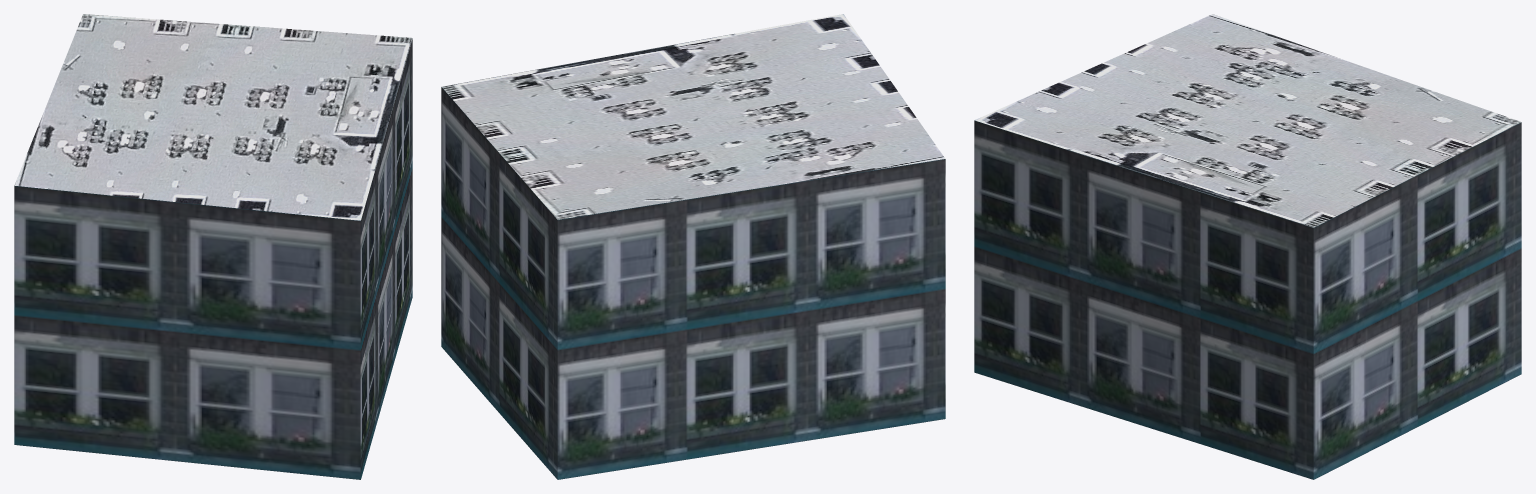
Rendered from ResTex__5233.fbx.
3 renders of one model, left to right at view 1: azimuth 30°, elevation 25°; view 2: azimuth 150°, elevation 25°; view 3: azimuth 270°, elevation 25°, orthographic. The views are drawn at different scales.
Parts seen in each view (by area): view 1: CityEngineMaterial_11_m, CityEngineMaterial_m; view 2: CityEngineMaterial_11_m, CityEngineMaterial_m; view 3: CityEngineMaterial_11_m, CityEngineMaterial_m.
Part boxes in pixels (bbox=[...]): CityEngineMaterial_11_m: bbox=[14, 39, 412, 479]; CityEngineMaterial_m: bbox=[14, 14, 412, 220]; CityEngineMaterial_11_m: bbox=[441, 87, 945, 479]; CityEngineMaterial_m: bbox=[441, 14, 945, 219]; CityEngineMaterial_11_m: bbox=[974, 120, 1521, 479]; CityEngineMaterial_m: bbox=[974, 14, 1521, 227].
Bounding box in the file's own units: 10.91 × 6 × 11.81.
2 materials, 2 textured.
